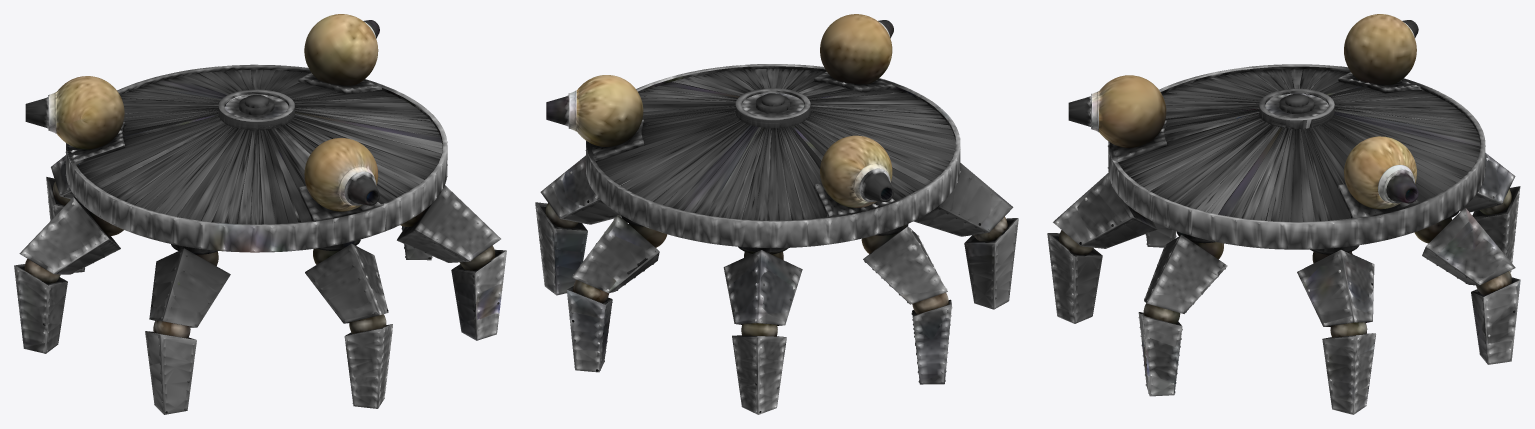
Rendered from MZ4250 - Shock Stomper.glb.
3 renders of one model, left to right at view 1: azimuth 30°, elevation 25°; view 2: azimuth 150°, elevation 25°; view 3: azimuth 270°, elevation 25°, orthographic.
Parts seen in each view (by area): view 1: Shockstomper.001; view 2: Shockstomper.001; view 3: Shockstomper.001.
Boxes of the visible parts, <box> form: Shockstomper.001: <box>14,14,506,414</box>; Shockstomper.001: <box>535,14,1018,414</box>; Shockstomper.001: <box>1047,14,1520,414</box>.
Size of the model in its own units: 108 by 58.72 by 106.
Materials: 1 (1 with a texture image).
